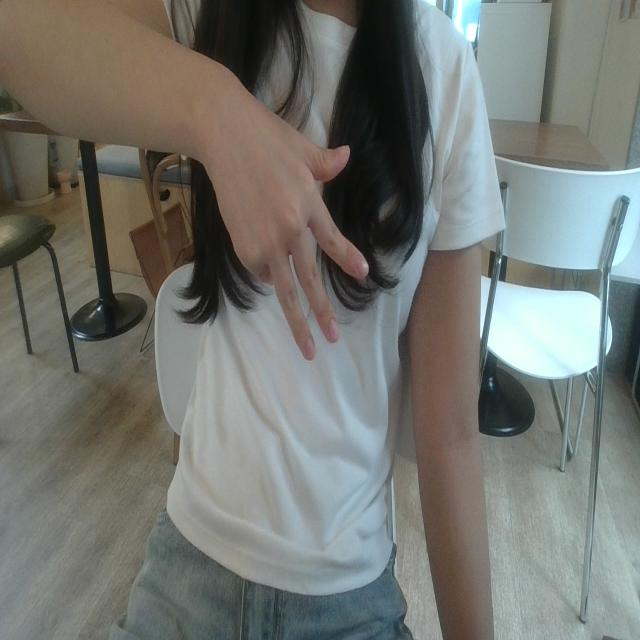chieut: (198, 60, 395, 384)
